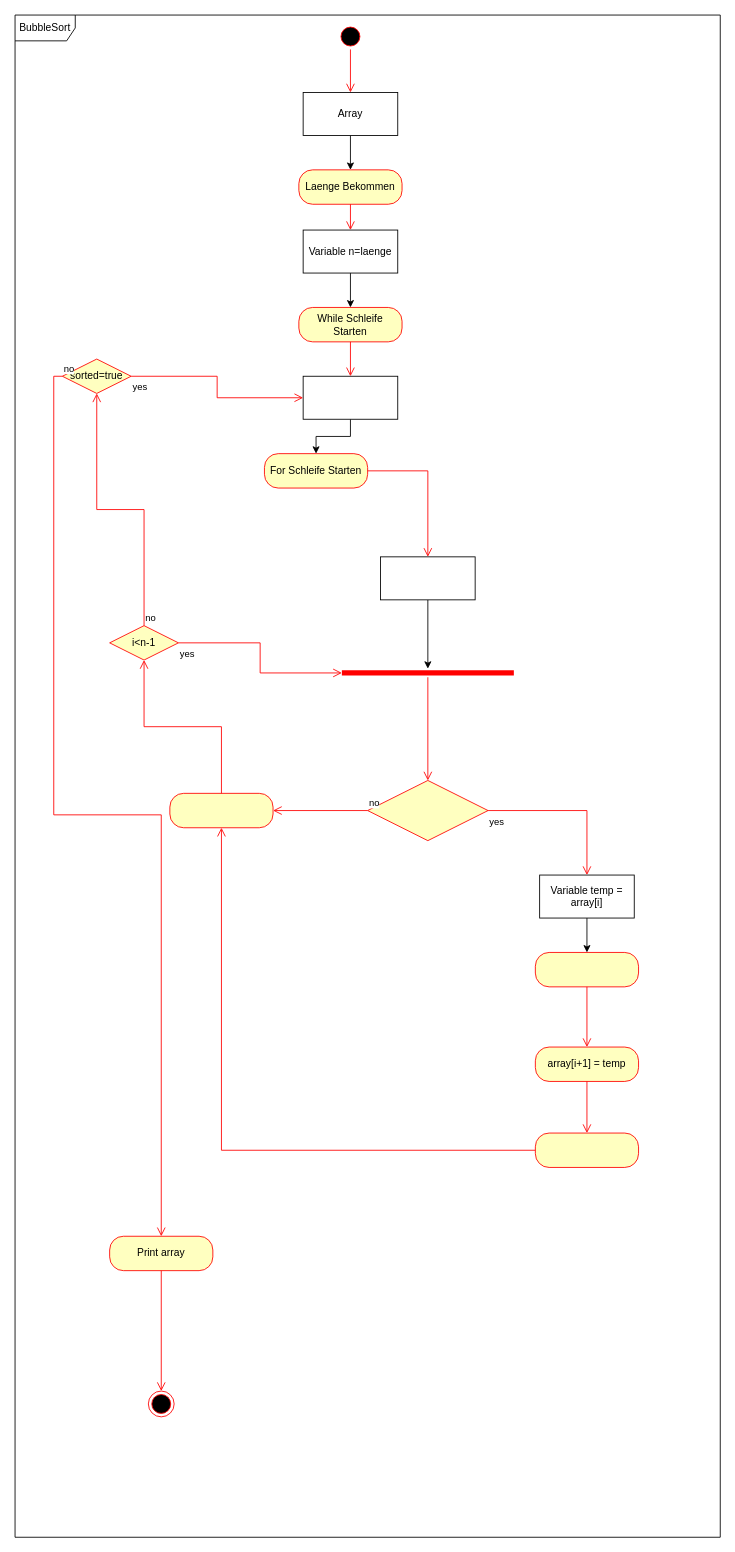
The diagram is 735 pixels wide and 1552 high, and some of its shapes have lost their labels. Here are the shapes that lost their labels. From the top down, the centre of each, then its label:
point (350, 397): Variable sorted=false
point (427, 578): Variable i=0
point (221, 810): i++
point (427, 810): array[i]>array[i+1]
point (586, 969): array[i] = array[i+1]
point (586, 1149): sorted = true
